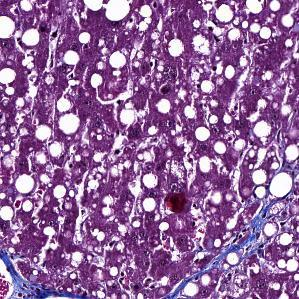fibrosis: (219, 213, 275, 259), (6, 258, 56, 299)
